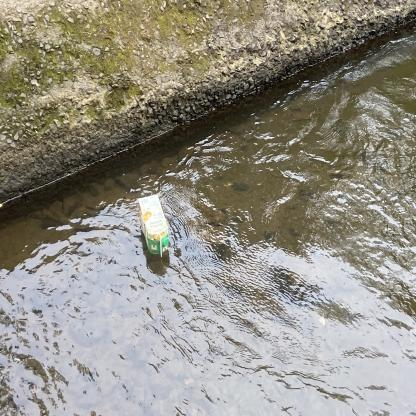trash: (138, 192, 171, 262)
